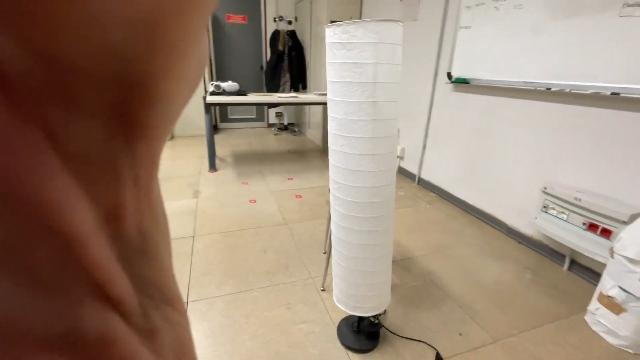Lamp: (320, 16, 408, 356)
